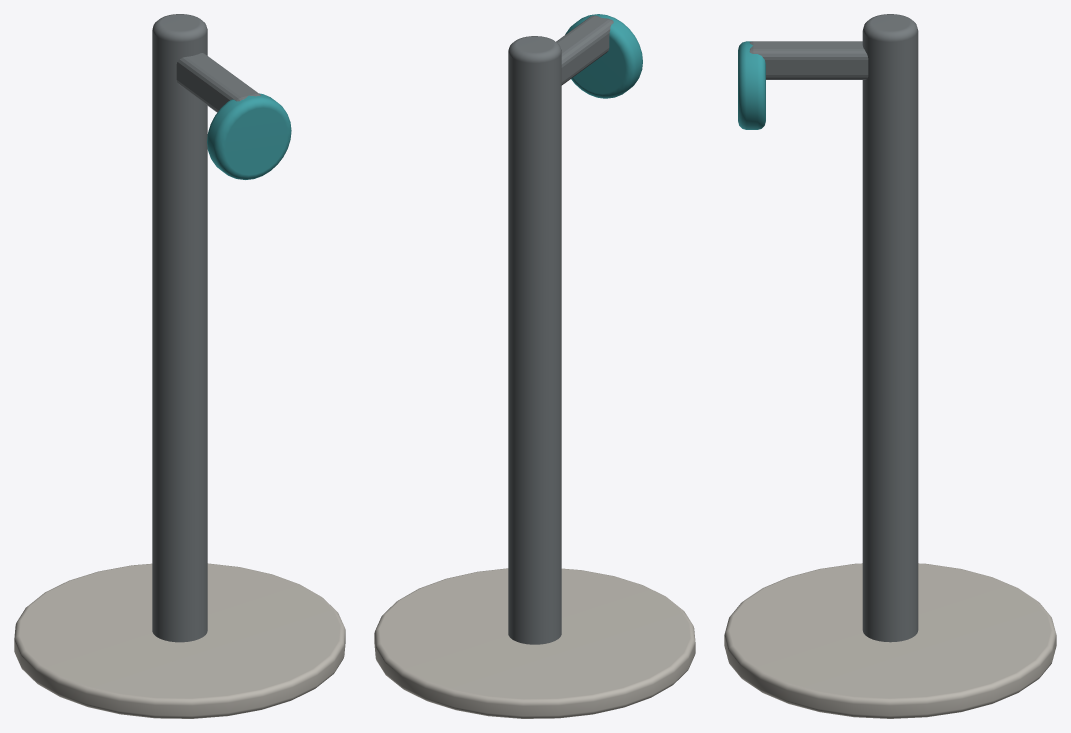
The model's file is beach_shower_lod0_v1.glb.
The picture shows the model from 3 angles, left to right: view 1: azimuth 30°, elevation 25°; view 2: azimuth 150°, elevation 25°; view 3: azimuth 270°, elevation 25°; orthographic projection. The views are drawn at different scales.
Parts seen in each view (by area): view 1: LOD0_BEACH_SHOWER_Drain, LOD0_BEACH_SHOWER_Post, LOD0_BEACH_SHOWER_Head, LOD0_BEACH_SHOWER_Arm; view 2: LOD0_BEACH_SHOWER_Drain, LOD0_BEACH_SHOWER_Post, LOD0_BEACH_SHOWER_Head, LOD0_BEACH_SHOWER_Arm; view 3: LOD0_BEACH_SHOWER_Drain, LOD0_BEACH_SHOWER_Post, LOD0_BEACH_SHOWER_Arm, LOD0_BEACH_SHOWER_Head.
Part boxes in pixels (<box>): LOD0_BEACH_SHOWER_Drain: <box>14,563,345,718</box>; LOD0_BEACH_SHOWER_Post: <box>152,14,207,642</box>; LOD0_BEACH_SHOWER_Head: <box>207,93,291,179</box>; LOD0_BEACH_SHOWER_Arm: <box>176,53,260,112</box>; LOD0_BEACH_SHOWER_Drain: <box>374,568,695,718</box>; LOD0_BEACH_SHOWER_Post: <box>508,36,561,644</box>; LOD0_BEACH_SHOWER_Head: <box>565,14,642,98</box>; LOD0_BEACH_SHOWER_Arm: <box>556,15,613,85</box>; LOD0_BEACH_SHOWER_Drain: <box>724,563,1056,718</box>; LOD0_BEACH_SHOWER_Post: <box>862,14,918,642</box>; LOD0_BEACH_SHOWER_Arm: <box>749,41,868,79</box>; LOD0_BEACH_SHOWER_Head: <box>738,41,765,129</box>.
Size of what is drawn, in the model's own units: 1.2 by 2.5 by 1.2.
